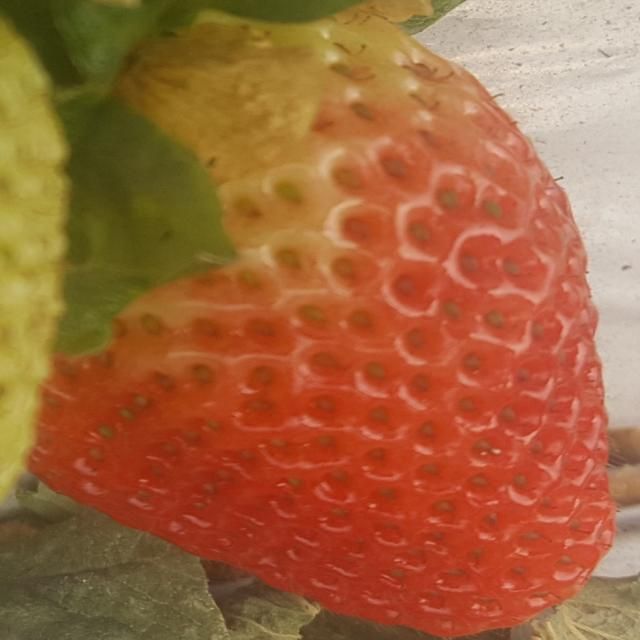Strawberry: (24, 3, 617, 637), (0, 7, 72, 510)
